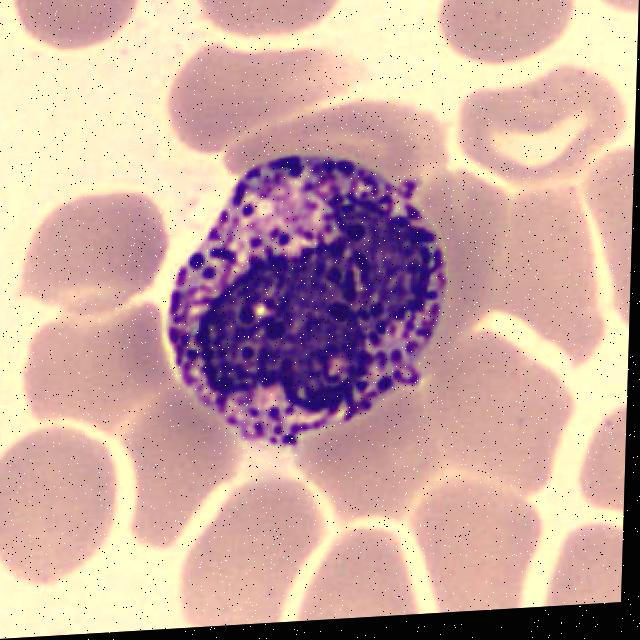basophil: (162, 151, 446, 446)
rbc: (154, 28, 364, 158), (216, 76, 458, 187), (170, 481, 316, 629), (440, 323, 564, 493), (26, 177, 164, 325), (17, 302, 158, 434), (416, 475, 547, 614), (461, 68, 611, 188), (0, 421, 115, 569), (172, 0, 342, 63), (318, 519, 418, 620), (432, 0, 575, 69), (13, 0, 139, 67), (569, 410, 627, 521)
